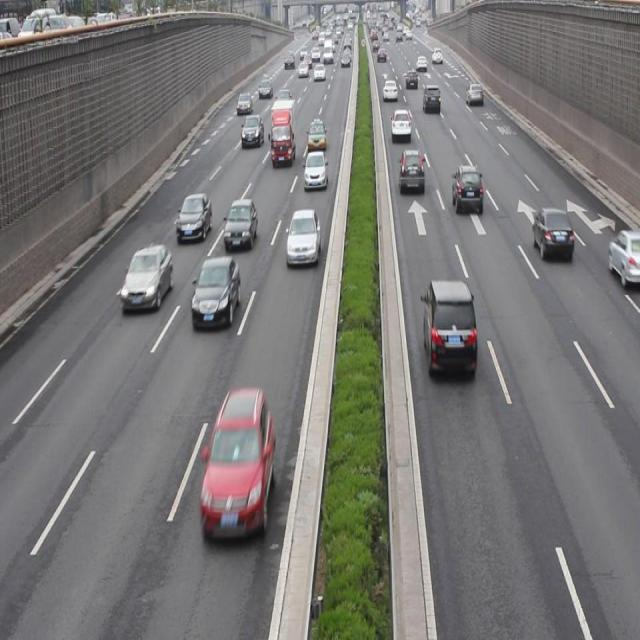bus: (270, 96, 296, 164)
car: (200, 386, 275, 537), (422, 277, 477, 377), (120, 244, 173, 314), (192, 256, 240, 329), (531, 204, 572, 259), (285, 208, 320, 265), (608, 228, 640, 286), (175, 192, 211, 242), (451, 161, 483, 216), (222, 198, 256, 248), (397, 147, 424, 193), (302, 150, 326, 190), (241, 113, 263, 148), (391, 108, 411, 140), (307, 118, 326, 150)
